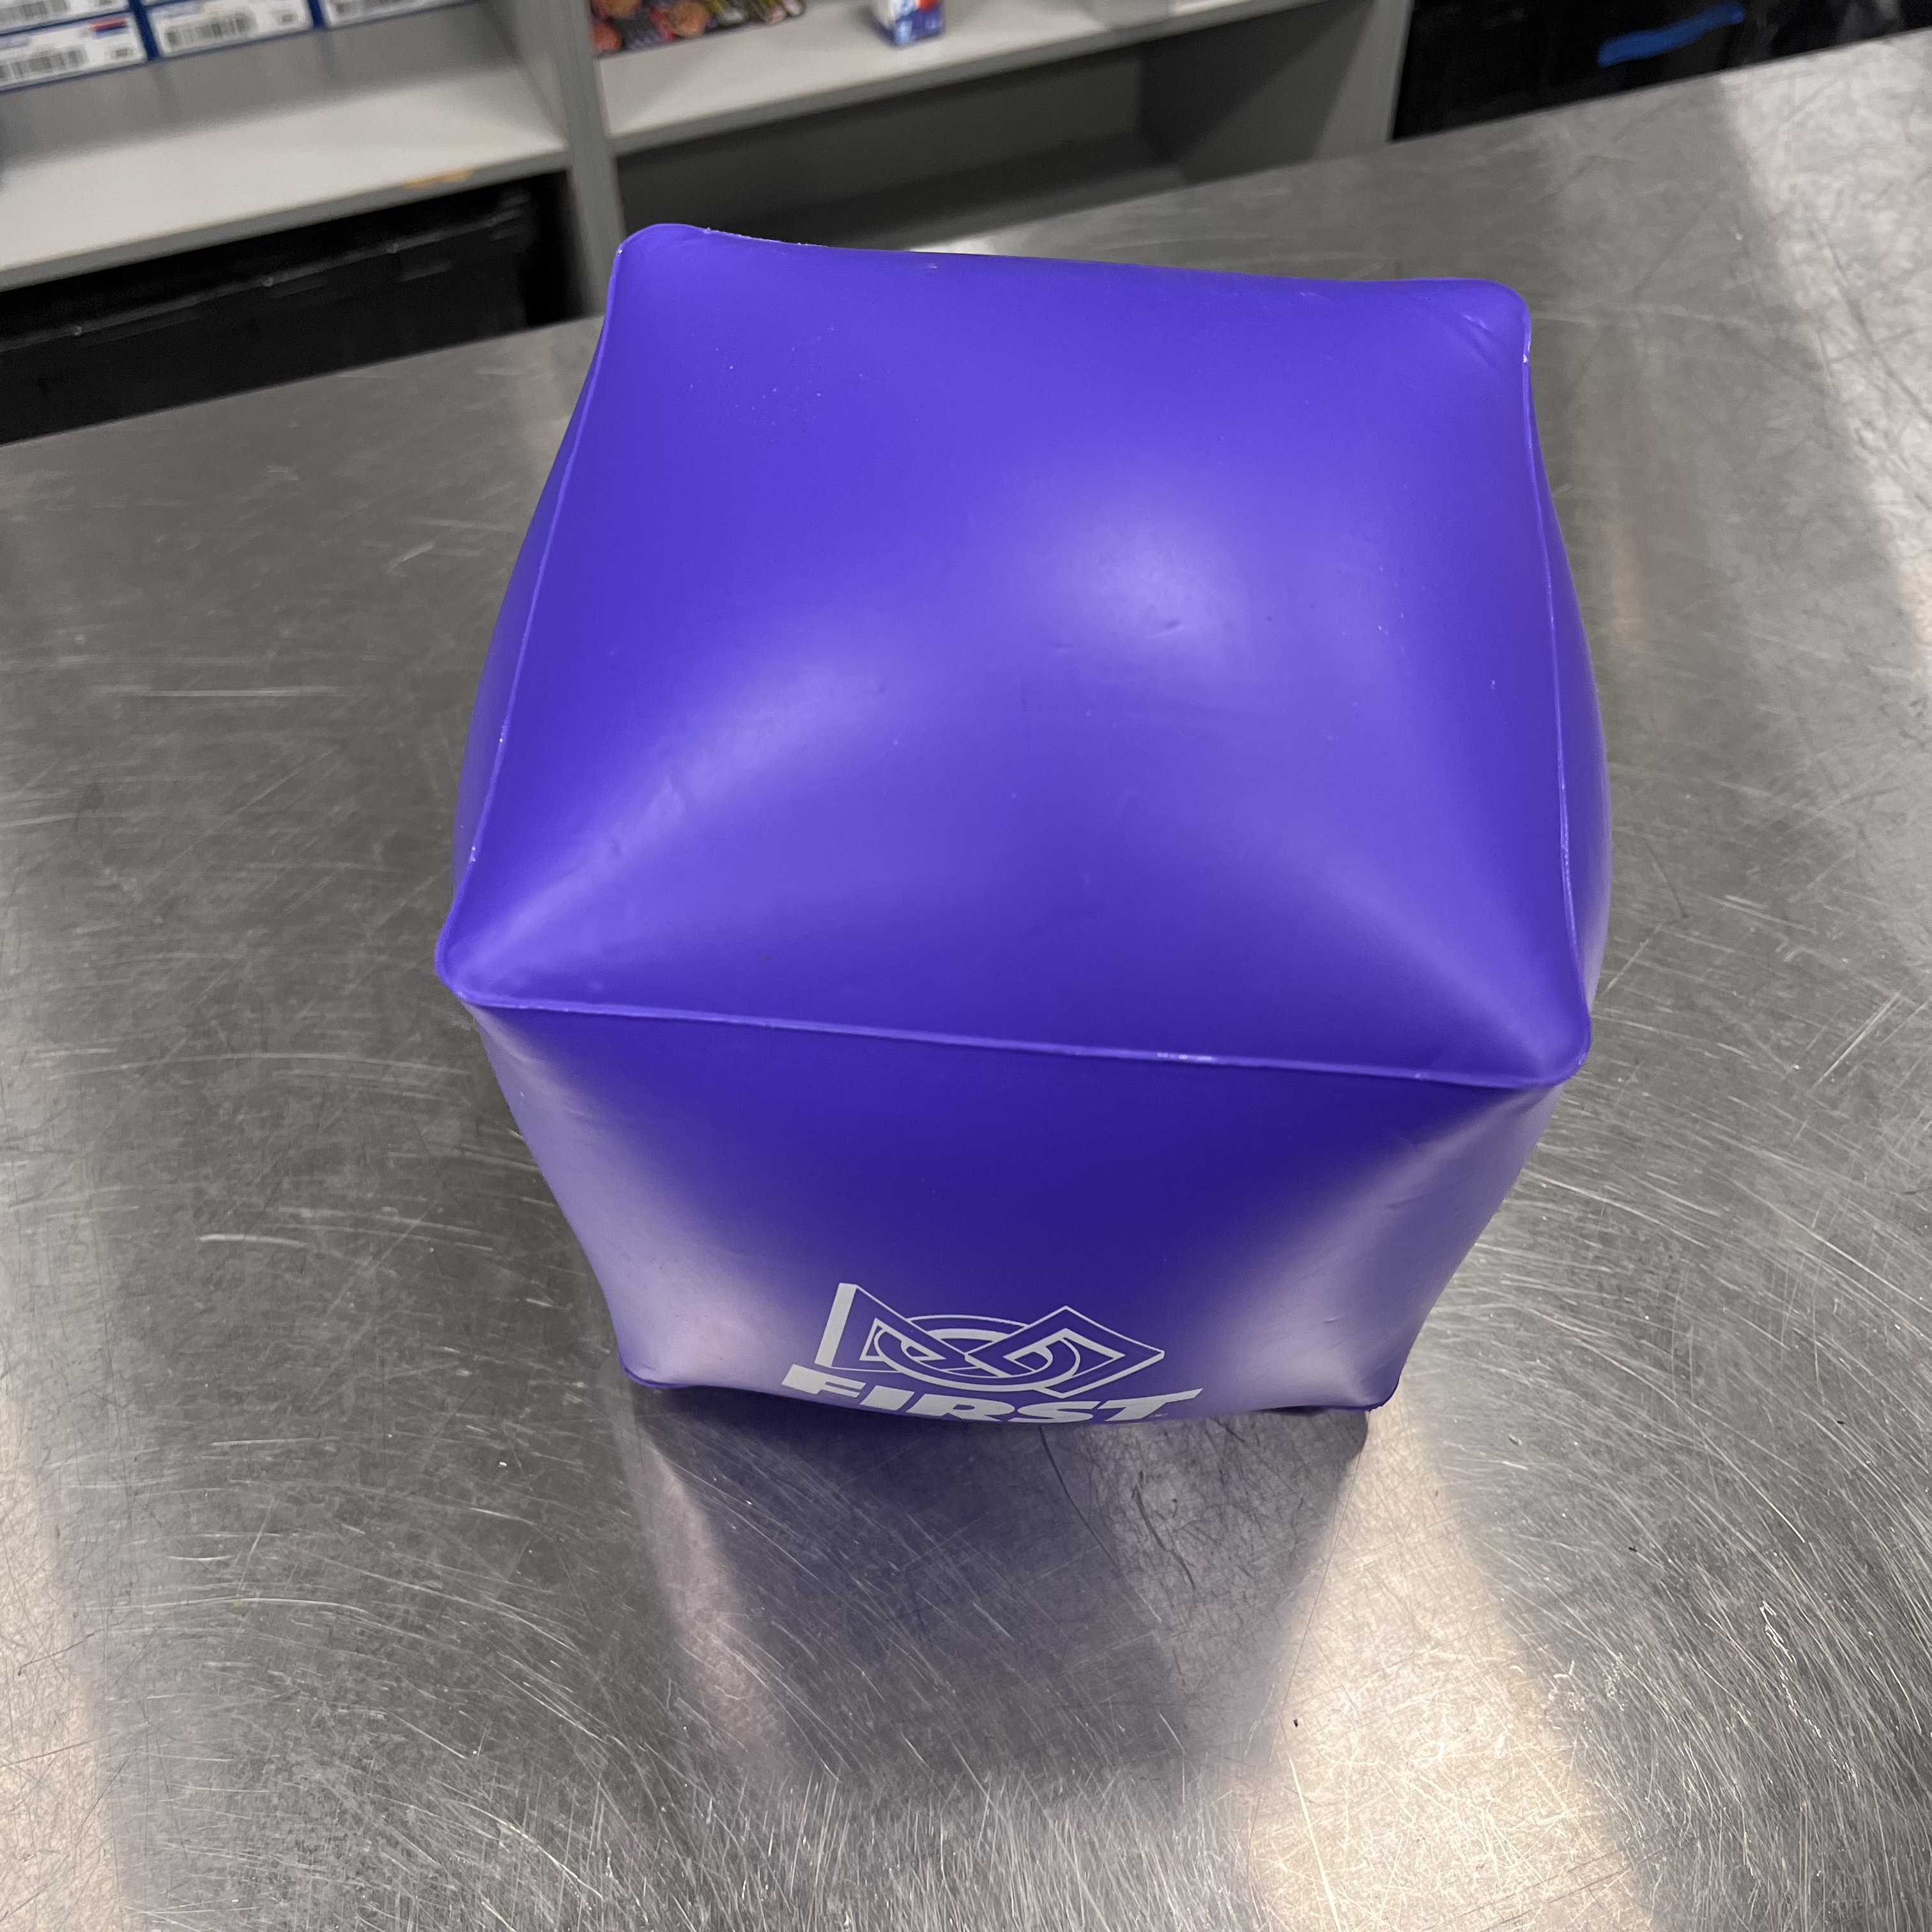cube: (439, 223, 1608, 1426)
